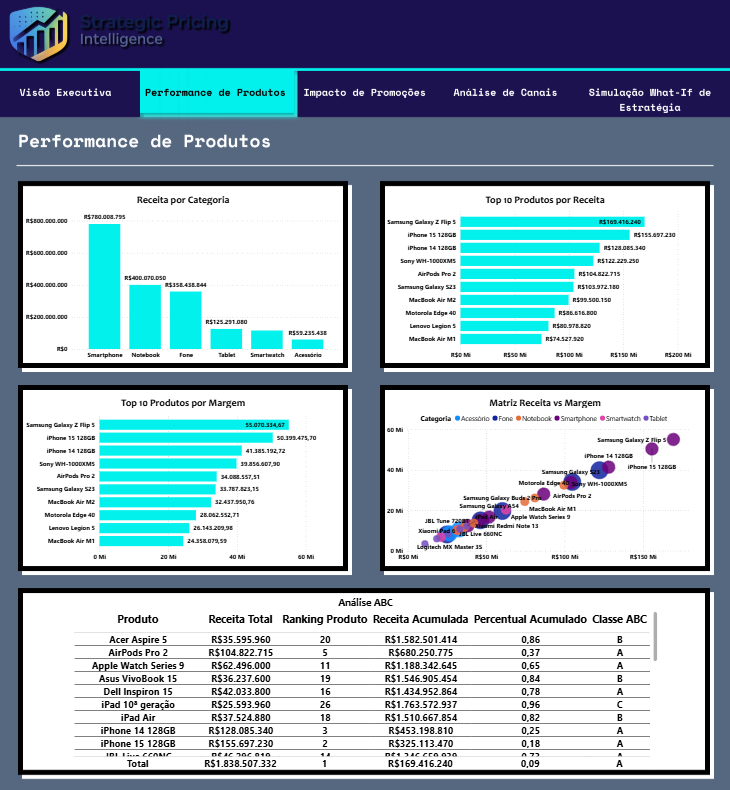

The page's visual inventory and layout, read from the dashboard file:
{"tool":"powerbi","page":{"name":"Performance de Produtos","canvas":[1460,1585],"ordinal":1},"visuals":[{"type":"columnChart","title":"Receita por Categoria","fields":{"Category":["Dim_Produto.Categoria"],"Y":["Fato_Vendas.Receita Total"]},"box":[46,386,640,342],"z":0},{"type":"barChart","title":"Top 10 Produtos por Receita","fields":{"Category":["Dim_Produto.Produto"],"Y":["Fato_Vendas.Receita Total"]},"box":[768,386,644,342],"z":1000},{"type":"barChart","title":"Top 10 Produtos por Margem","fields":{"Category":["Dim_Produto.Produto"],"Y":["Fato_Vendas.Margem"]},"box":[46,792,640,340],"z":2000},{"type":"scatterChart","title":"Matriz Receita vs Margem","fields":{"X":["Fato_Vendas.Receita Total"],"Y":["Fato_Vendas.Margem"],"Size":["Fato_Vendas.Volume Total"],"Category":["Dim_Produto.Produto"],"Series":["Dim_Produto.Categoria"]},"box":[768,792,644,340],"z":3000},{"type":"tableEx","title":"Análise ABC","fields":{"Values":["Dim_Produto.Produto","Fato_Vendas.Receita Total","Fato_Vendas.Ranking Produto","Fato_Vendas.Receita Acumulada","Fato_Vendas.Percentual Acumulado","Fato_Vendas.Classe ABC"]},"box":[142,1192,1178,352],"z":4000}]}

Visuals, with their boxes in screenshot pixels (x1, y1, x2, y2), scaled from the page's 1460x1585 canvas onto the 730x790 screenshot:
"Receita por Categoria" columnChart: [23, 192, 343, 363]
"Top 10 Produtos por Receita" barChart: [384, 192, 706, 363]
"Top 10 Produtos por Margem" barChart: [23, 395, 343, 564]
"Matriz Receita vs Margem" scatterChart: [384, 395, 706, 564]
"Análise ABC" tableEx: [71, 594, 660, 770]
